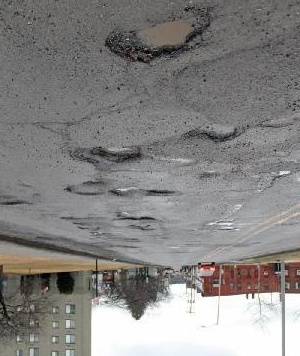pothole: (104, 14, 214, 65), (182, 121, 240, 144), (91, 144, 145, 166), (108, 184, 141, 197), (118, 214, 157, 223), (144, 189, 178, 199)
